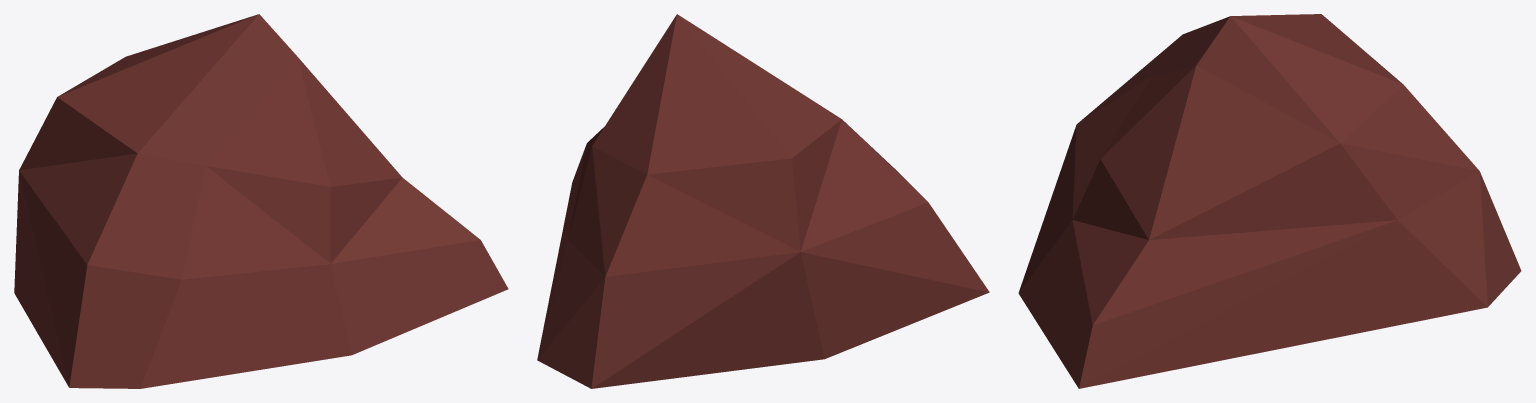
Rendered from Rock_8_Red.fbx.
3 renders of one model, left to right at view 1: azimuth 30°, elevation 25°; view 2: azimuth 150°, elevation 25°; view 3: azimuth 270°, elevation 25°, orthographic. The views are drawn at different scales.
Visible parts, largest first — view 1: Rock_8_Red; view 2: Rock_8_Red; view 3: Rock_8_Red.
Part boxes in pixels (x1,y1,x2,y2): Rock_8_Red: (14,14,508,388); Rock_8_Red: (537,14,989,388); Rock_8_Red: (1018,14,1521,388).
Bounding box in the file's own units: 232 × 137 × 222.
